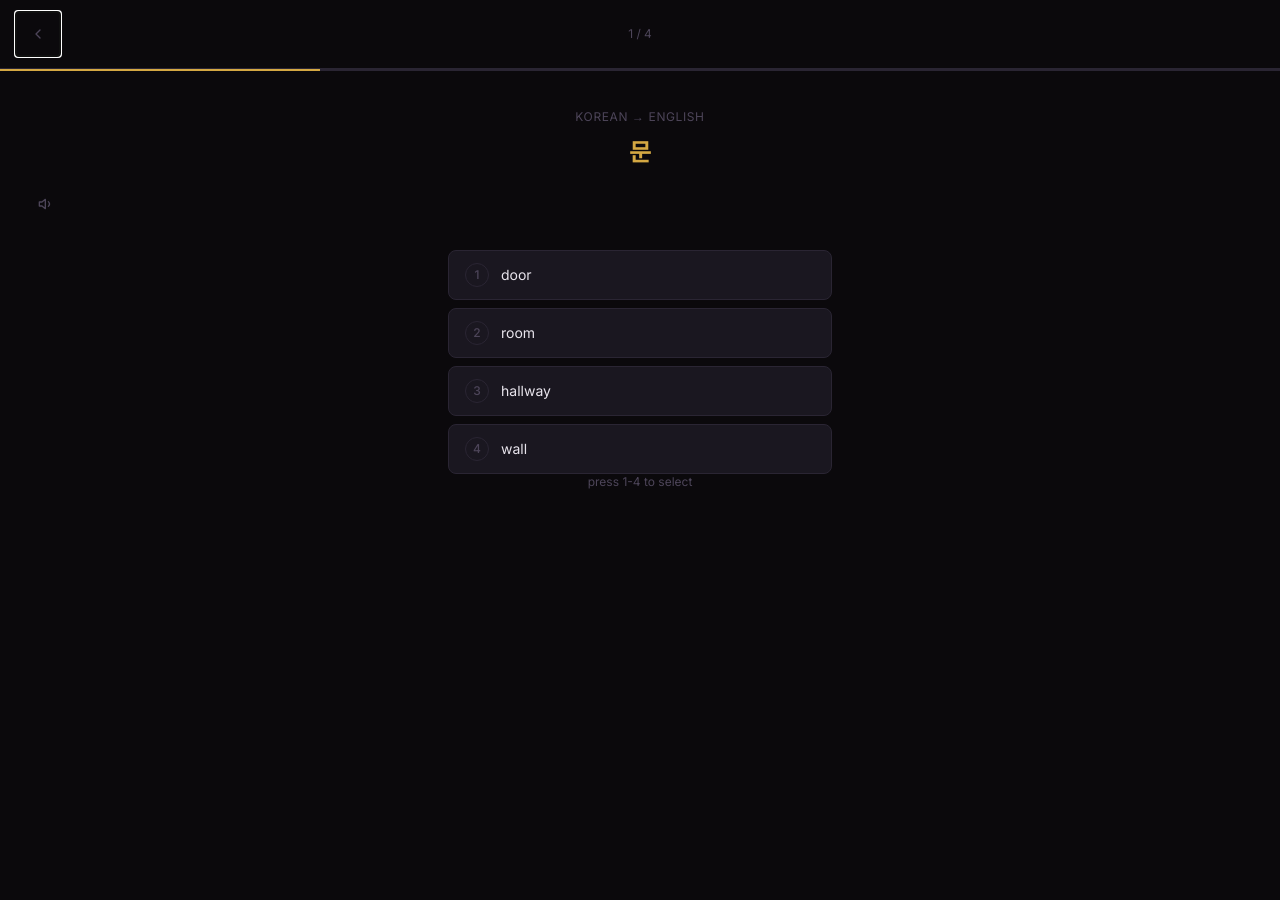
Test: FlashcardMode › advances to next question after clicking Next
Click the button with aria-label "Option 1:". click: [516, 274]
box: [448,250,832,300]
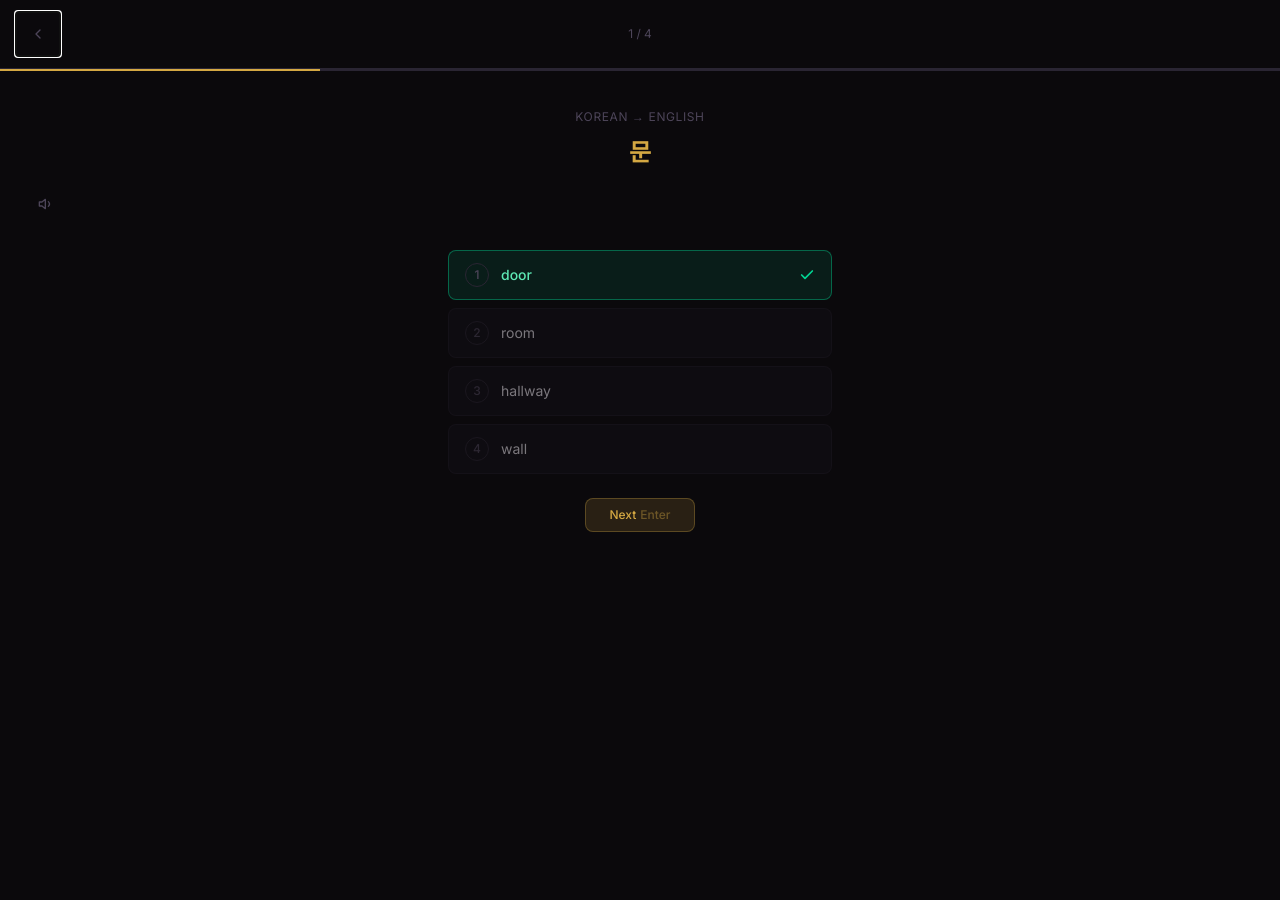
Click the button "Next". click: [640, 515]
box: [584,498,696,532]
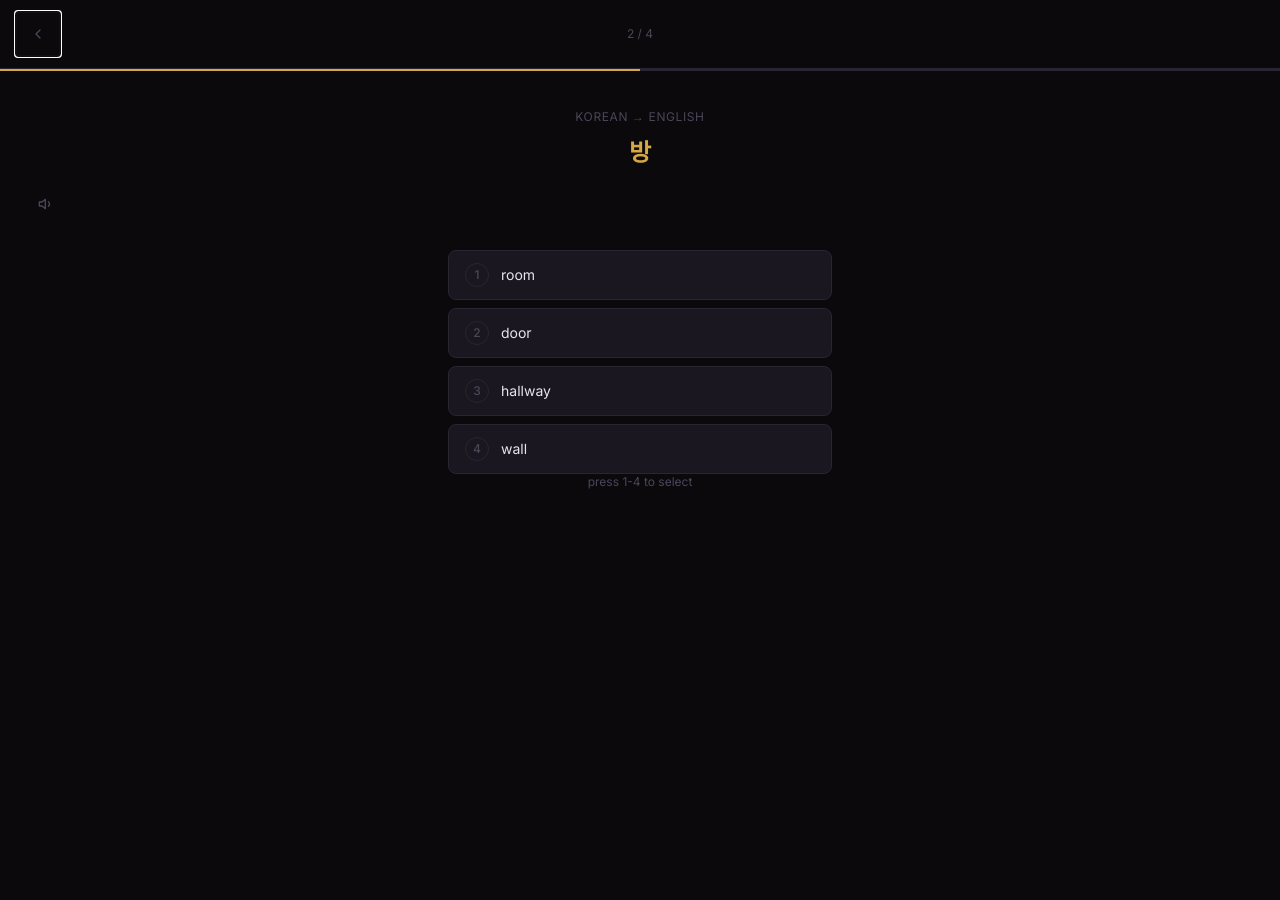
Expected: the text "2 / 4" is shown, [627,26,653,42]
